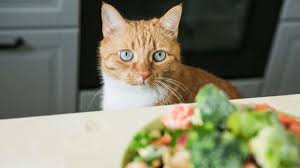kedi: (99, 1, 235, 107)
